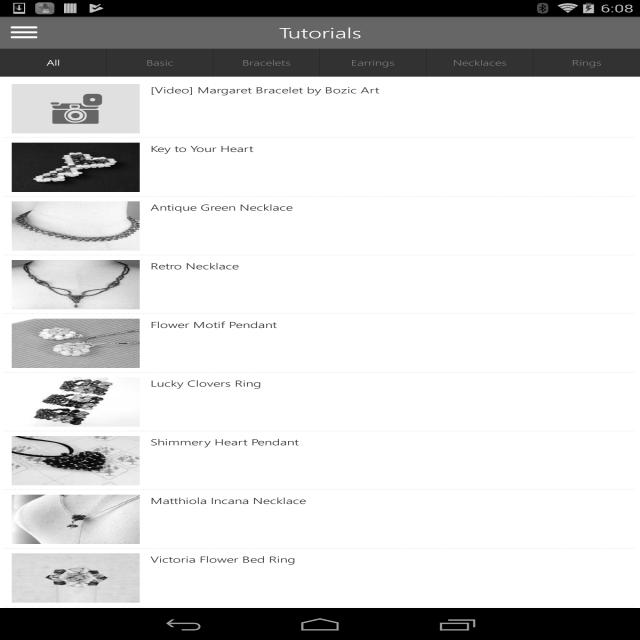EditText: (12, 48, 628, 73)
ImageView: (0, 17, 640, 608), (0, 17, 640, 76), (0, 16, 640, 48), (11, 201, 140, 251), (11, 377, 140, 427), (11, 553, 140, 603), (11, 84, 140, 133), (11, 143, 140, 192), (11, 260, 140, 309), (11, 319, 140, 368), (11, 436, 140, 485), (11, 495, 140, 544), (5, 22, 38, 42), (4, 137, 636, 138), (4, 196, 636, 197), (4, 313, 636, 314), (4, 372, 636, 373), (4, 489, 636, 490), (4, 548, 636, 549), (4, 255, 636, 255), (4, 431, 636, 431), (4, 607, 636, 607)
TextView: (0, 16, 640, 48), (151, 84, 628, 96), (151, 201, 628, 213), (151, 260, 628, 272), (151, 377, 628, 389), (151, 436, 628, 448), (151, 553, 628, 565), (151, 143, 628, 154), (151, 319, 628, 330), (151, 495, 628, 506), (213, 48, 320, 76), (533, 48, 640, 76), (0, 48, 106, 76), (106, 48, 212, 76), (320, 48, 426, 76), (427, 48, 532, 76)
